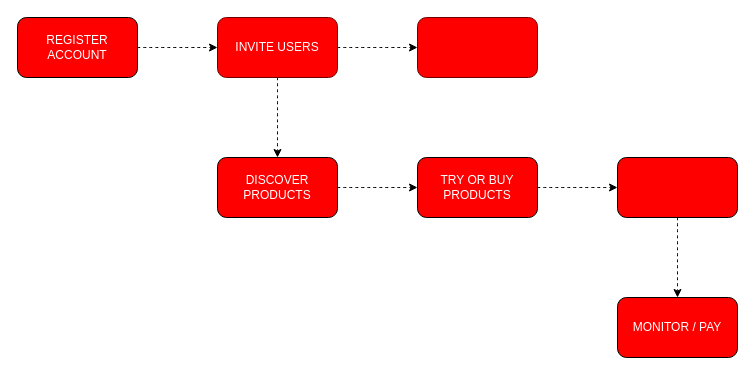
This 755x375 diagram has some shape labels left out. The centre of each missing label's shape, as x and y in pixels:
"INSTALL RHM OPERATOR" belongs at (x=677, y=187).
"REGISTER CLUSTER" belongs at (x=477, y=47).
